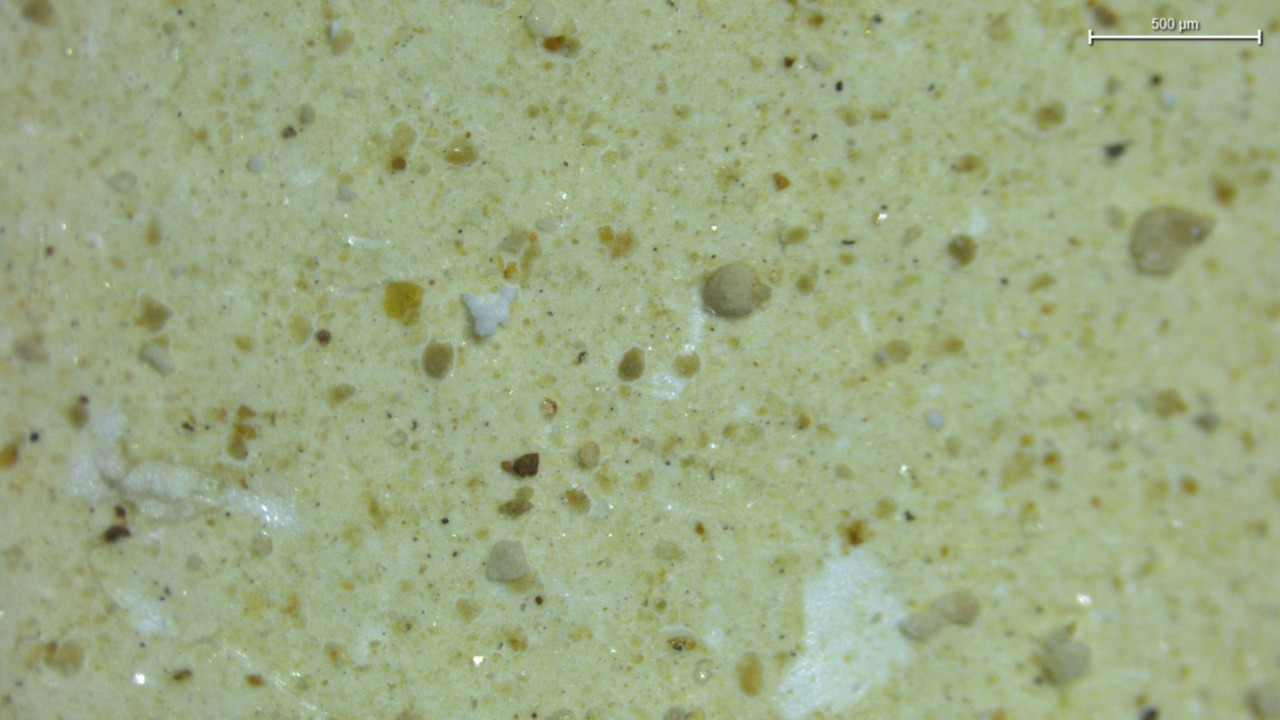microplastic_fragment: (899, 590, 979, 640), (702, 262, 770, 318), (461, 287, 516, 338), (485, 540, 530, 581), (140, 345, 174, 374), (577, 441, 600, 469)
